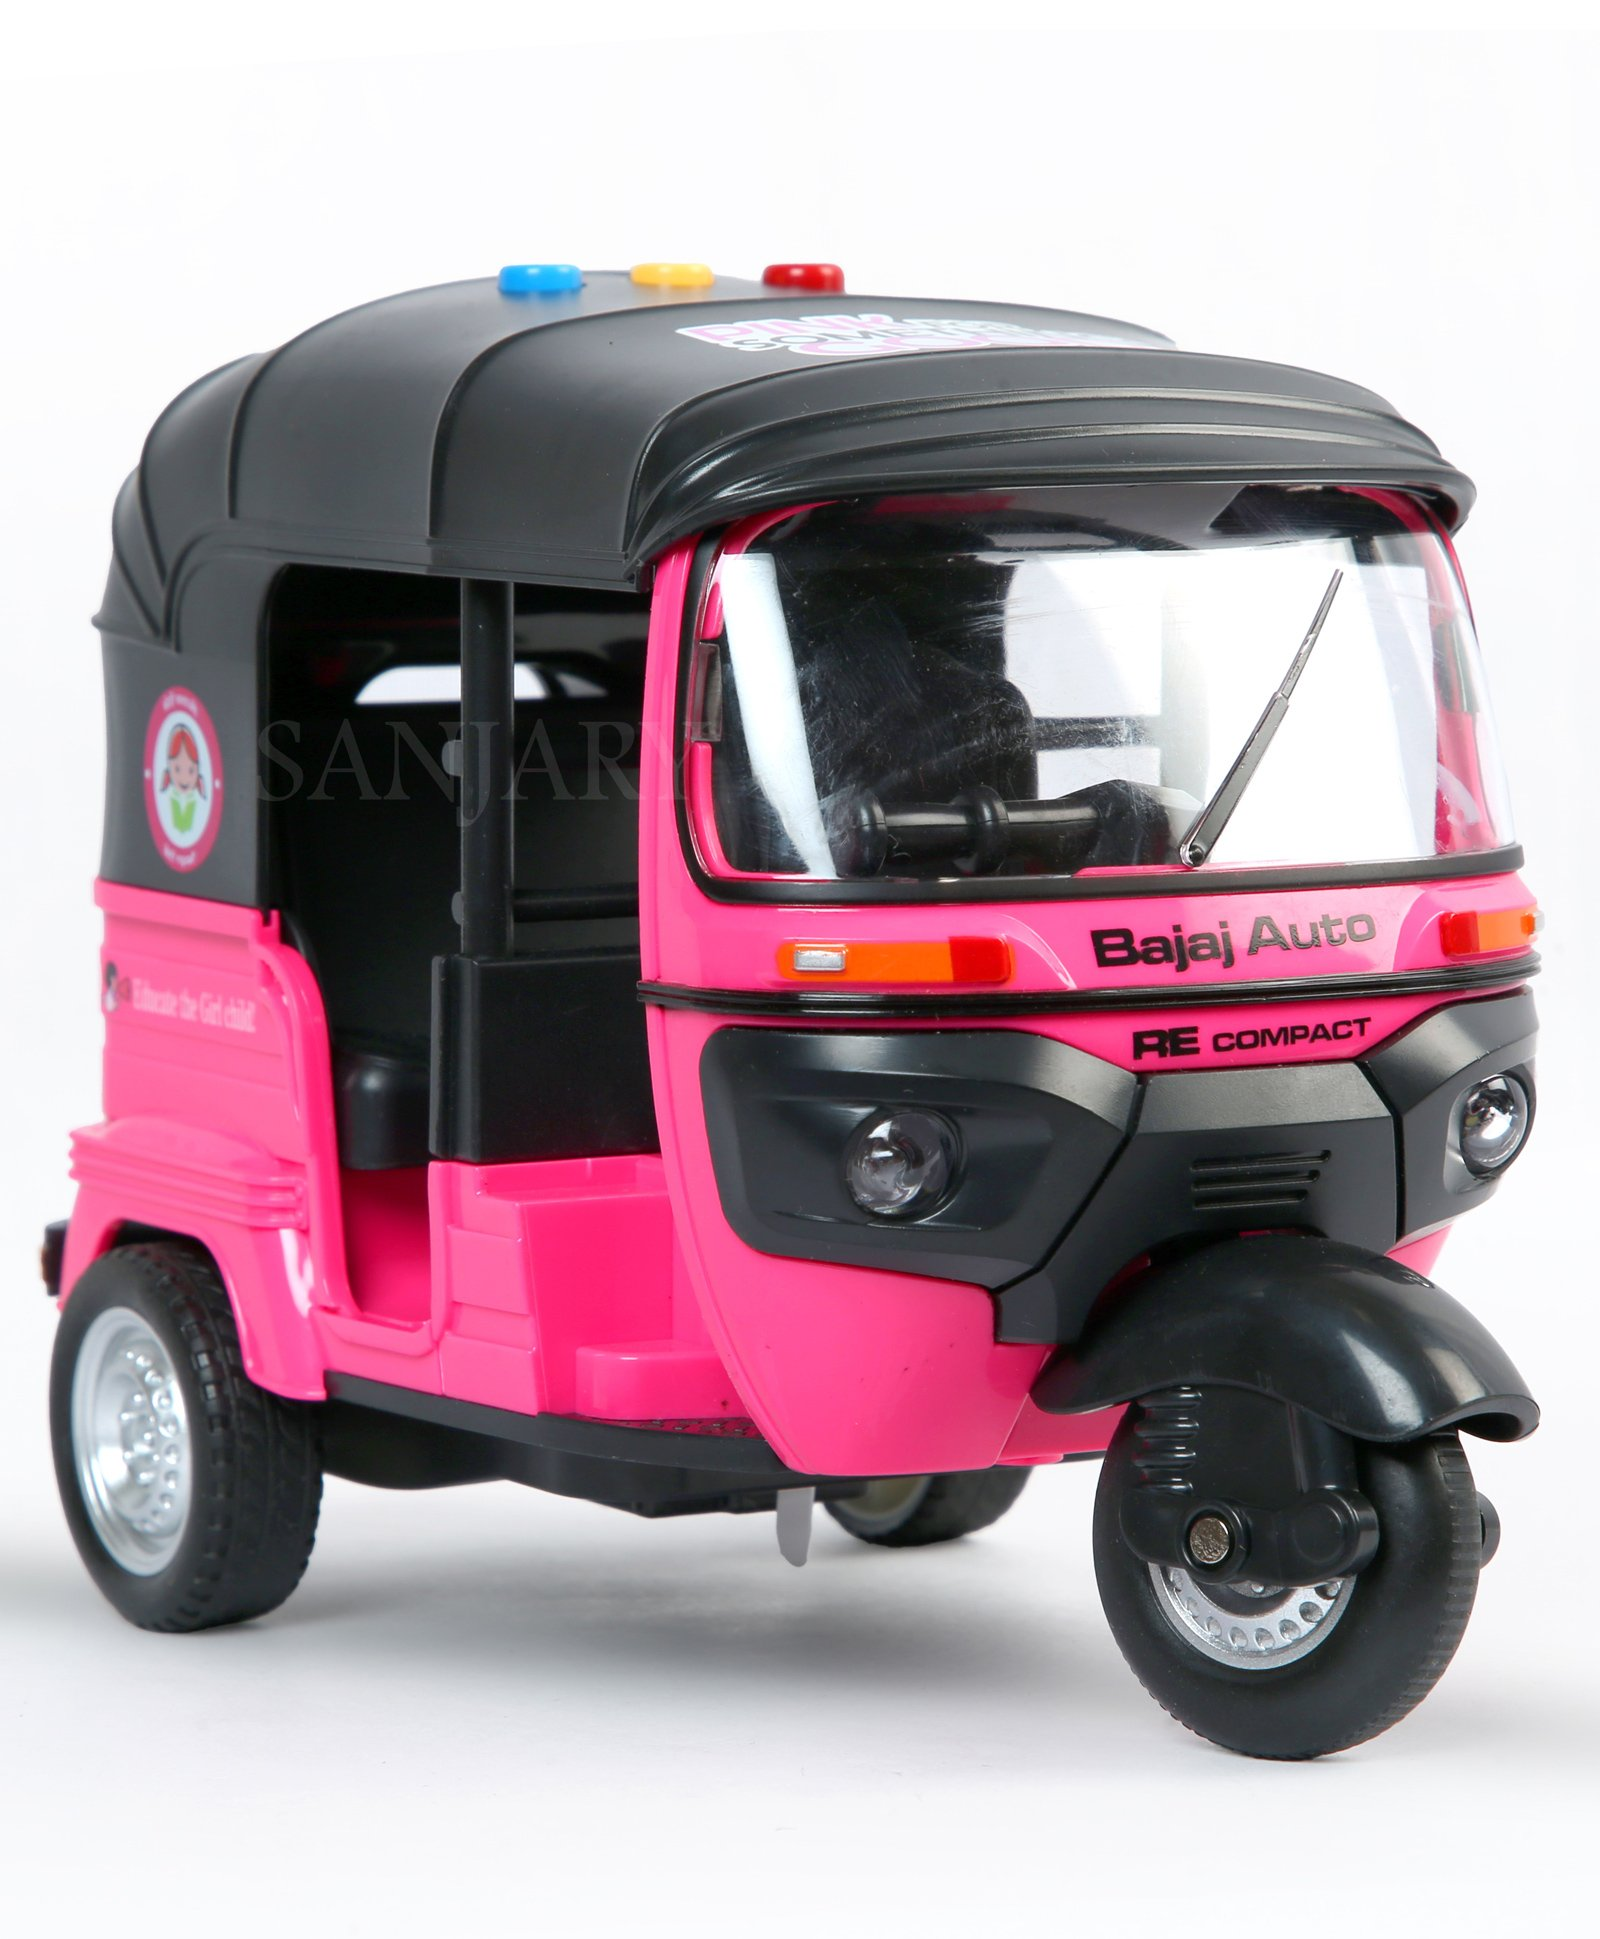rickshaw: (10, 208, 1586, 1928)
